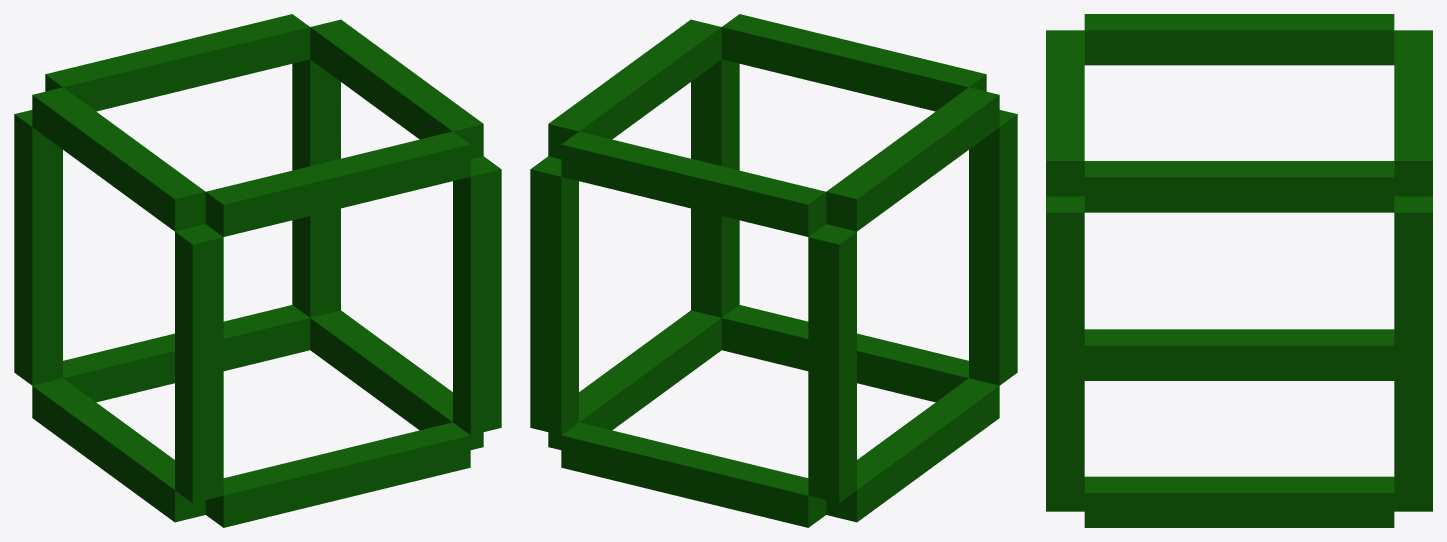
The model's file is can build.obj.
3 views of the same model, side by side, from view 1: azimuth 30°, elevation 25°; view 2: azimuth 150°, elevation 25°; view 3: azimuth 270°, elevation 25° (orthographic). The views are drawn at different scales.
Size of the model in its own units: 1 by 1 by 1.
Materials: 1 (1 with a texture image).
